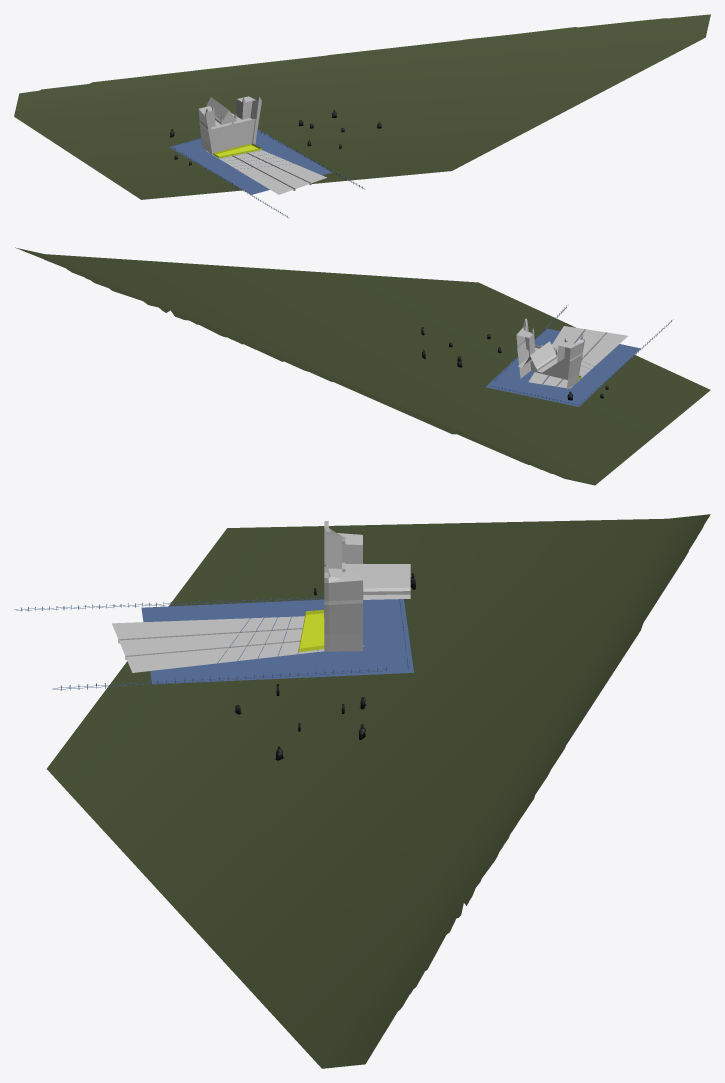
File: gargoyleMAP.fbx
3 views of the same model, one above another, from view 1: azimuth 30°, elevation 25°; view 2: azimuth 150°, elevation 25°; view 3: azimuth 270°, elevation 25° (orthographic). The views are drawn at different scales.
Visible parts, largest first — view 1: Plane.002, nidaros.001, Plane.006, Plane, Plane.001; view 2: Plane.002, Plane.006, nidaros.001, Plane; view 3: Plane.002, Plane.006, Plane, nidaros.001, Plane.001.
Part boxes in pixels (left/top/right/bottom): Plane.002: left=14, top=14, right=710, bottom=199; nidaros.001: left=198, top=95, right=261, bottom=154; Plane.006: left=169, top=129, right=331, bottom=194; Plane: left=206, top=150, right=326, bottom=194; Plane.001: left=213, top=143, right=261, bottom=158; Plane.002: left=15, top=247, right=710, bottom=485; Plane.006: left=485, top=328, right=640, bottom=406; nidaros.001: left=516, top=318, right=584, bottom=389; Plane: left=528, top=326, right=628, bottom=388; Plane.002: left=47, top=514, right=710, bottom=1068; Plane.006: left=141, top=599, right=413, bottom=684; Plane: left=112, top=616, right=363, bottom=672; nidaros.001: left=324, top=521, right=410, bottom=651; Plane.001: left=299, top=609, right=324, bottom=652.
Size of the model in its own units: 4333 by 336 by 2257.
